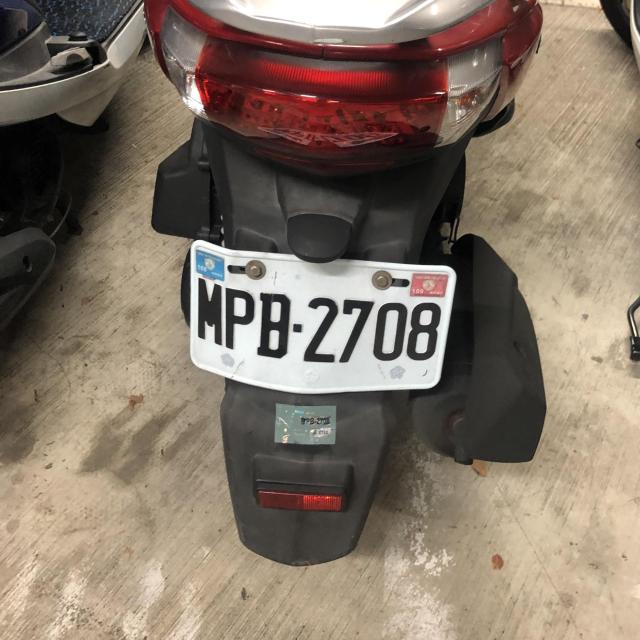W: (178, 243, 460, 401)
